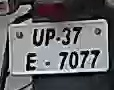0: (69, 51, 79, 70)
3: (63, 25, 70, 45)
7: (70, 23, 84, 46), (55, 50, 69, 70), (90, 48, 102, 67), (79, 48, 89, 69)
E: (24, 51, 39, 72)
P: (44, 26, 56, 47)
U: (31, 26, 45, 48)
